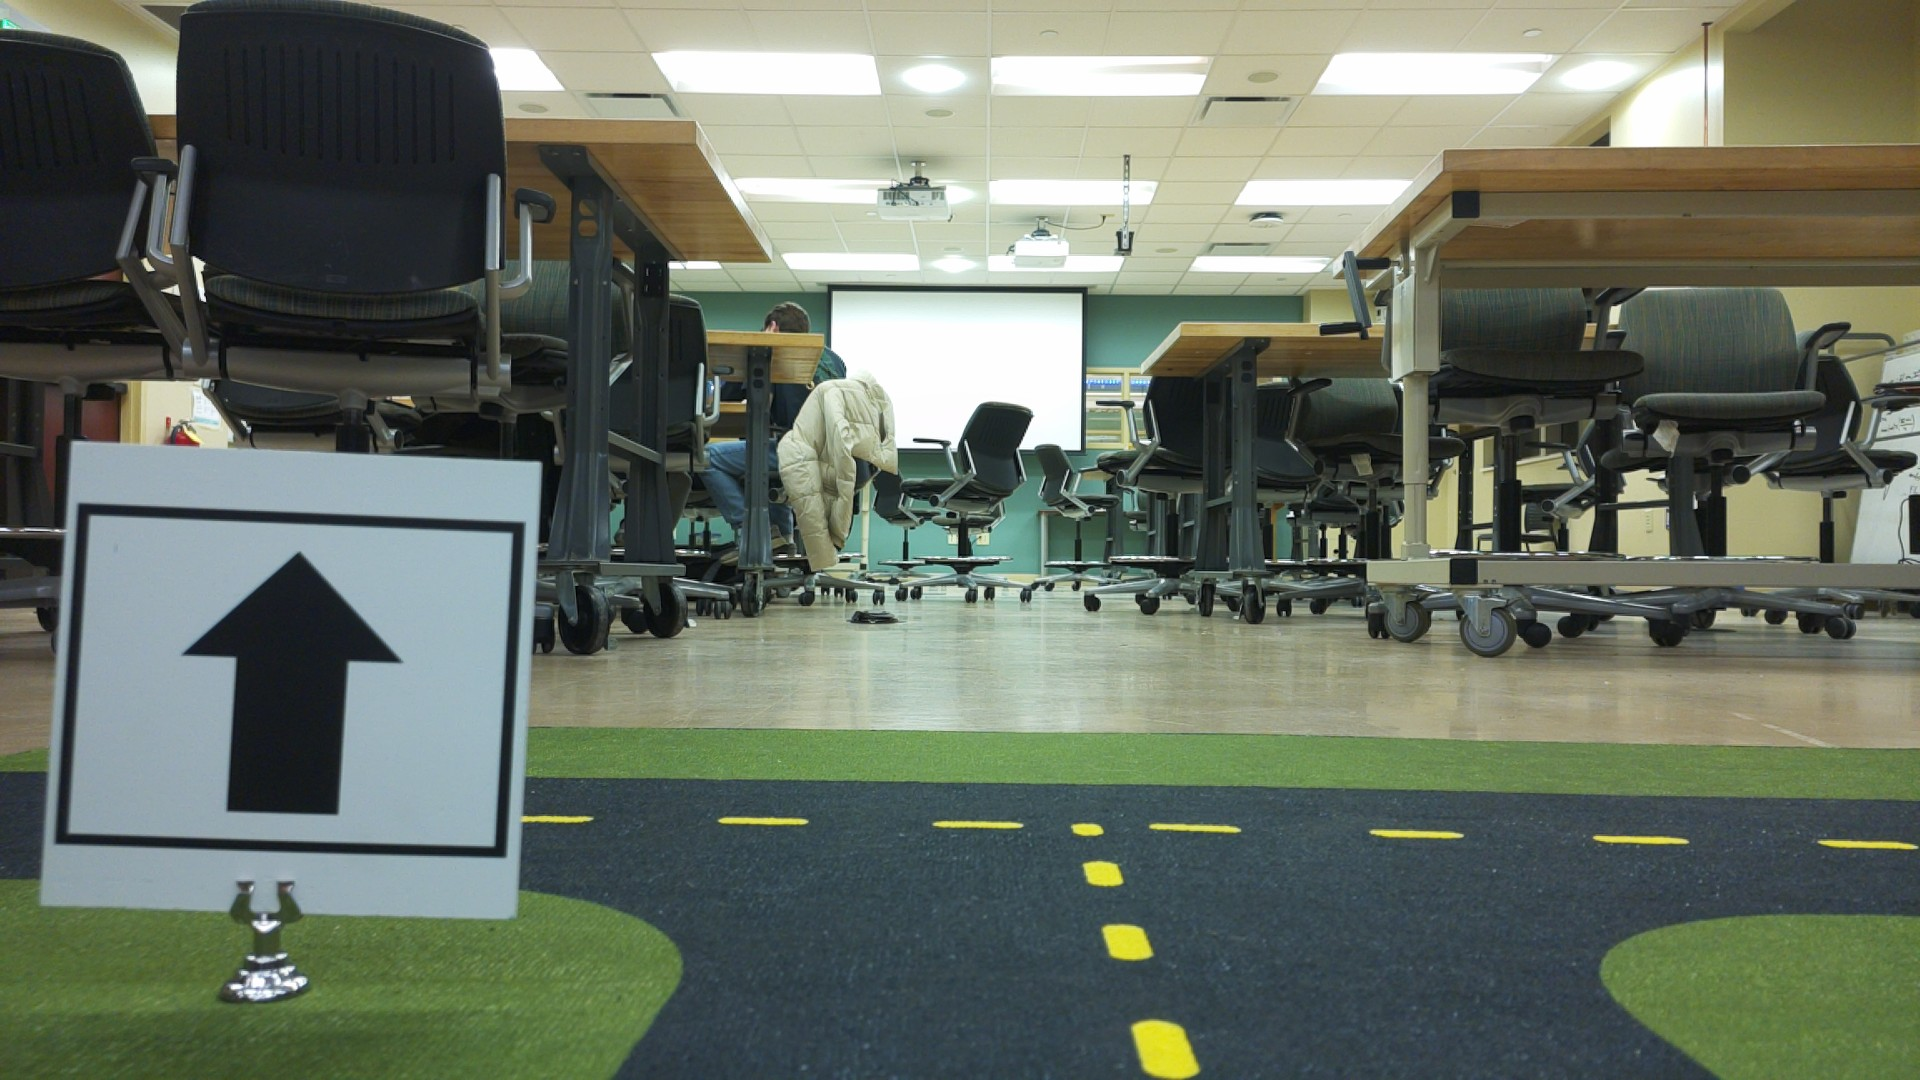gostraight: (78, 487, 520, 890)
